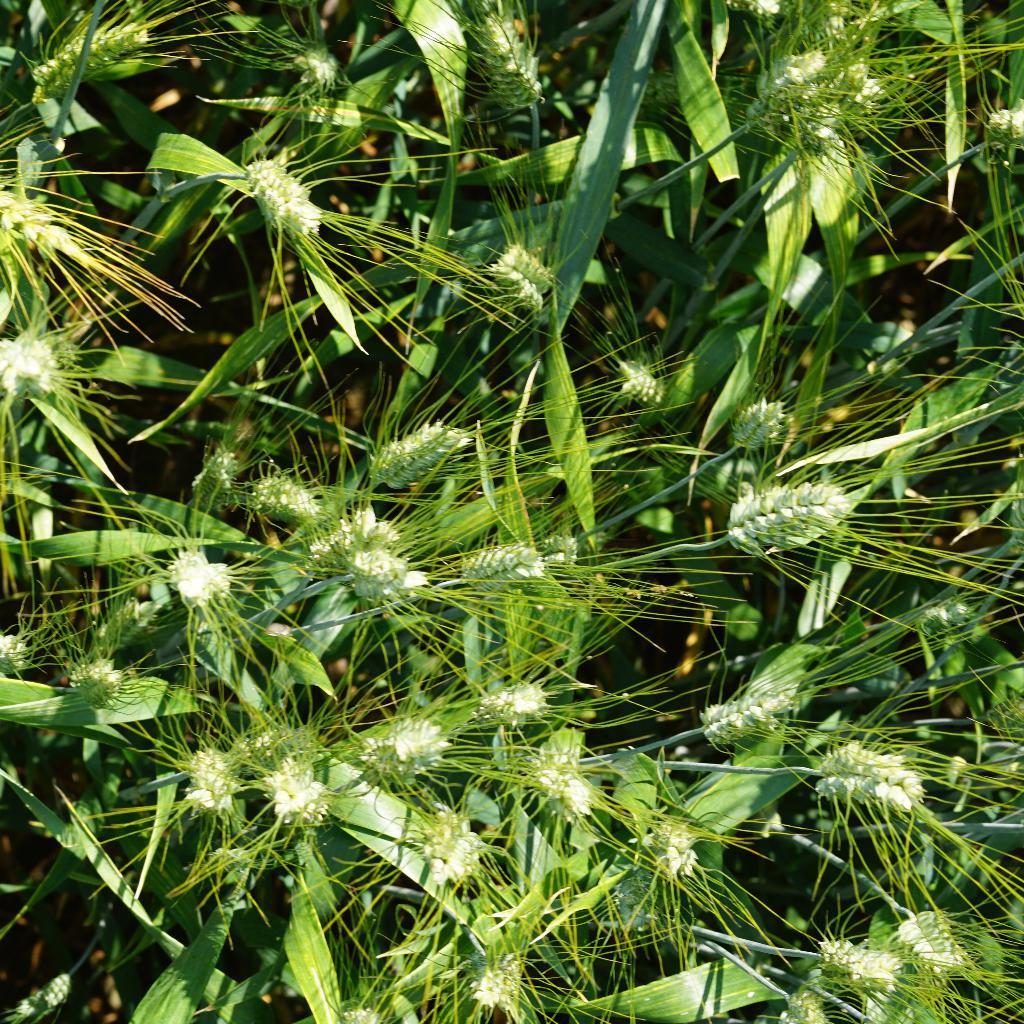0-0: (0, 138, 116, 271), (30, 0, 149, 97), (724, 479, 856, 552), (464, 0, 553, 104), (238, 149, 331, 243), (815, 736, 926, 813), (348, 415, 468, 486), (687, 681, 818, 742), (332, 515, 432, 594), (197, 714, 314, 780), (154, 542, 241, 622), (814, 922, 915, 990), (414, 805, 485, 900), (894, 896, 975, 975), (79, 591, 167, 663), (452, 542, 563, 594), (0, 325, 71, 404), (168, 735, 238, 814), (359, 707, 447, 769), (524, 754, 595, 830), (273, 29, 361, 89), (488, 238, 563, 306), (295, 513, 374, 577), (607, 856, 667, 940), (757, 36, 821, 114), (262, 740, 324, 817), (0, 965, 78, 1024), (66, 649, 130, 714), (251, 468, 324, 523), (193, 441, 253, 507), (605, 350, 669, 411), (727, 395, 791, 456), (650, 818, 707, 885), (481, 672, 546, 728), (828, 67, 892, 119), (918, 587, 983, 631), (473, 961, 515, 1024), (973, 101, 1024, 148)
